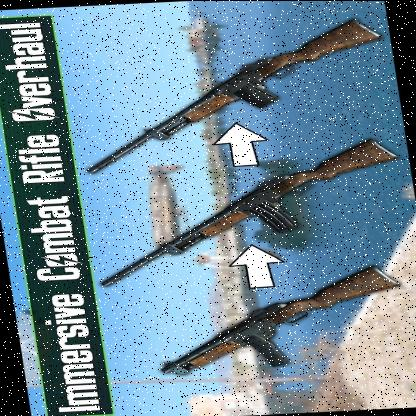rifle: (106, 12, 396, 125), (148, 284, 416, 380)
